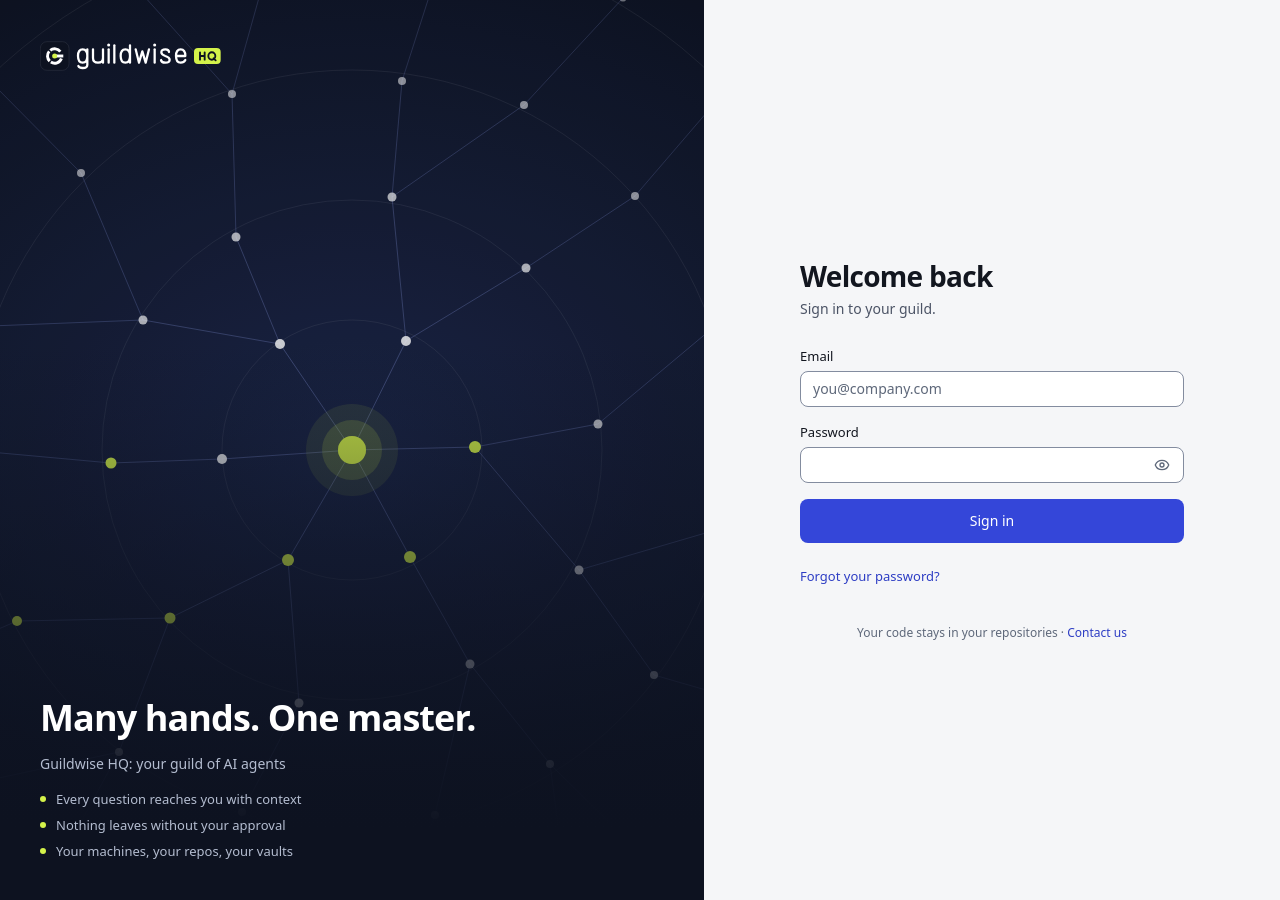
login screen › any other 403 names its code
The width and height of the screenshot is (1280, 900).
Type "a@b.co" into the field labelled "Email" at (992, 389), box [800,371,1184,407]
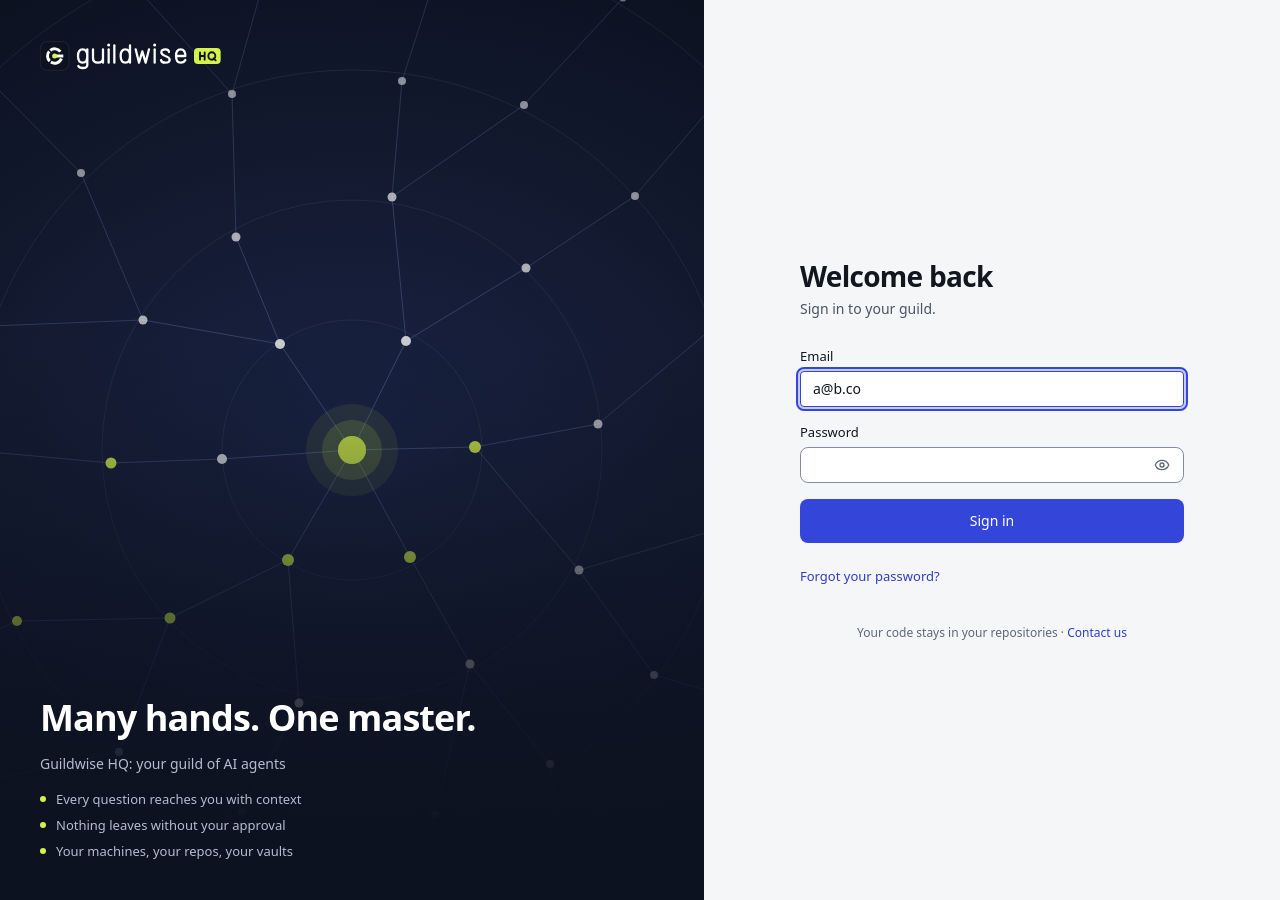
Type "Password-12345" into the password field labelled "Password" at (992, 465), box [800,447,1184,483]
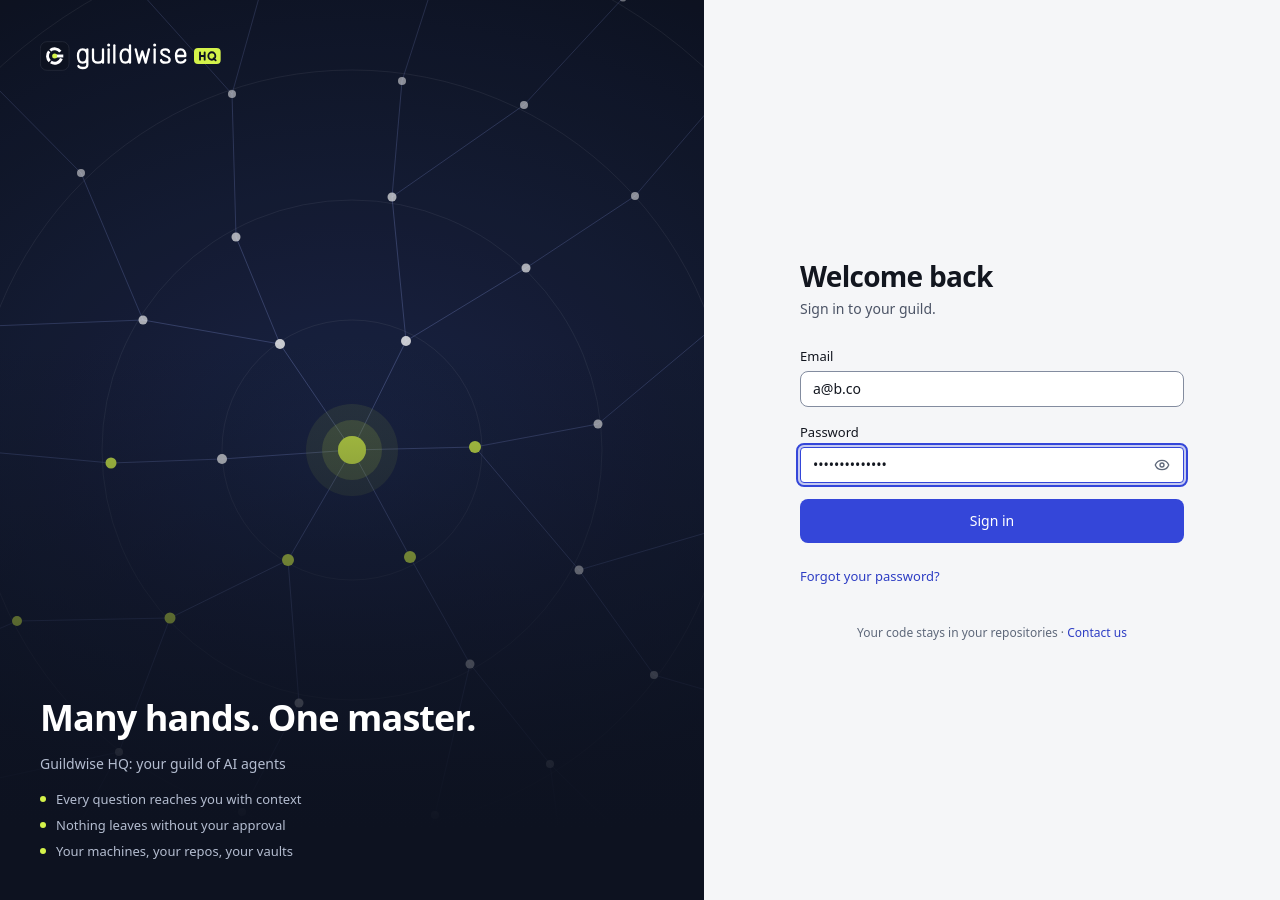
Click the button "Sign in" at (992, 521), box [800,499,1184,543]
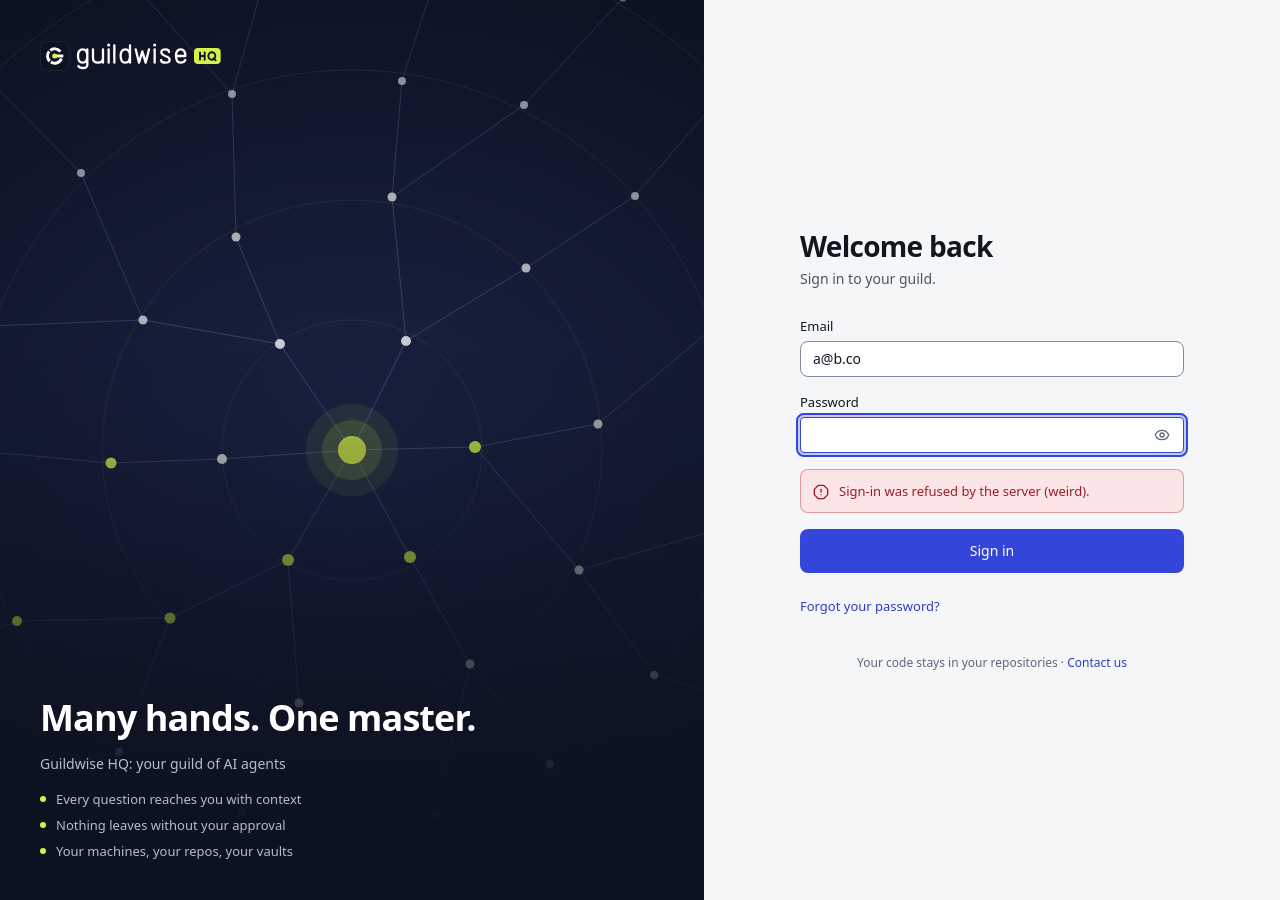
Expected: the text "Sign-in was refused by the server (weird)." is shown, [839,482,1090,500]
